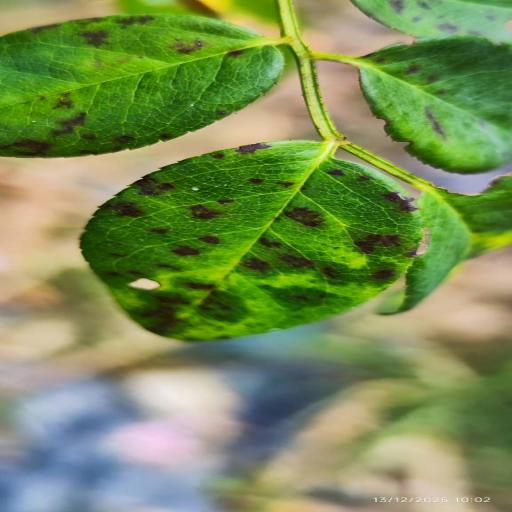black_spot: (83, 141, 421, 340), (2, 15, 284, 158), (349, 36, 511, 173), (351, 0, 511, 42)
